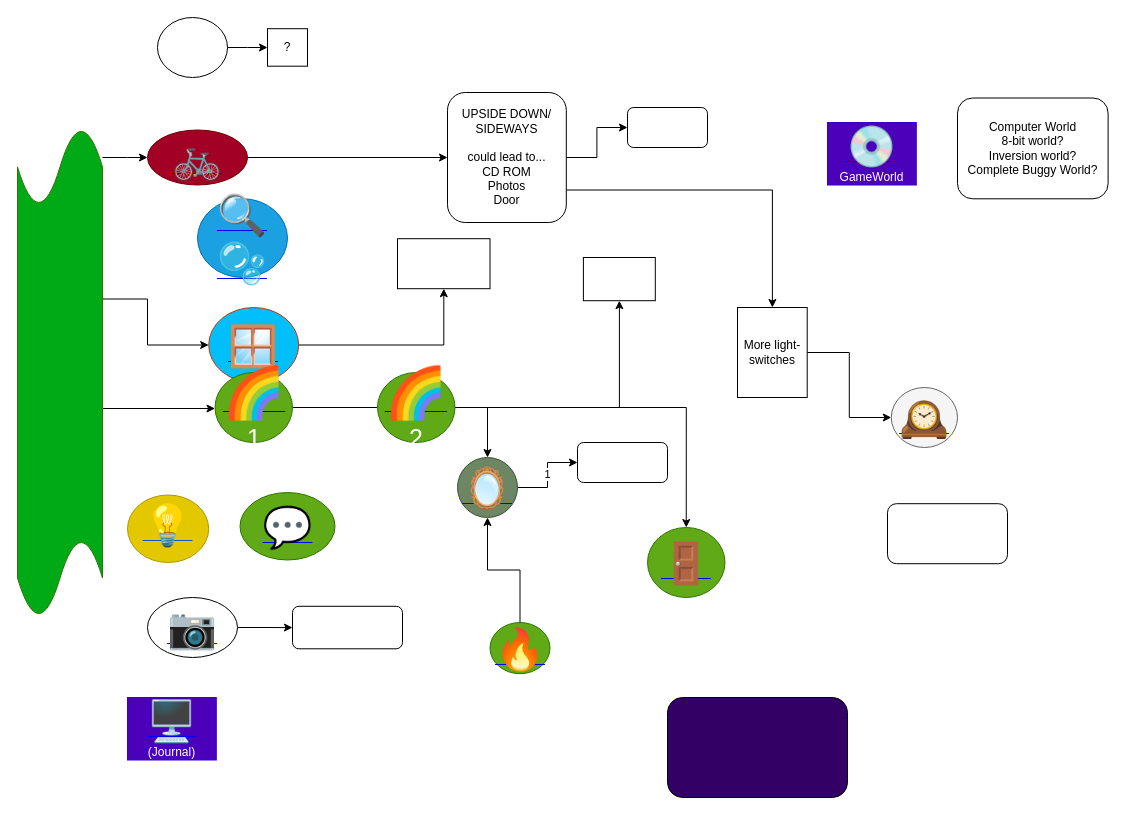
Image size: 1126x815. Some labels were removed from this diagram. The centre of each missing label's shape, as x and y in pixels:
Attic Item: (667,127)
Ending - full psychedelic: (757,747)
Item? dance party?: (618,278)
Melt item ... CD?: (443,263)
Menu: (192,47)
MIRRORED WORLD: (622,462)
NIGHT WORLD: (947,533)
Photo World/Dream/Item: (347,627)
Start (Key Hunting...): (59,372)
